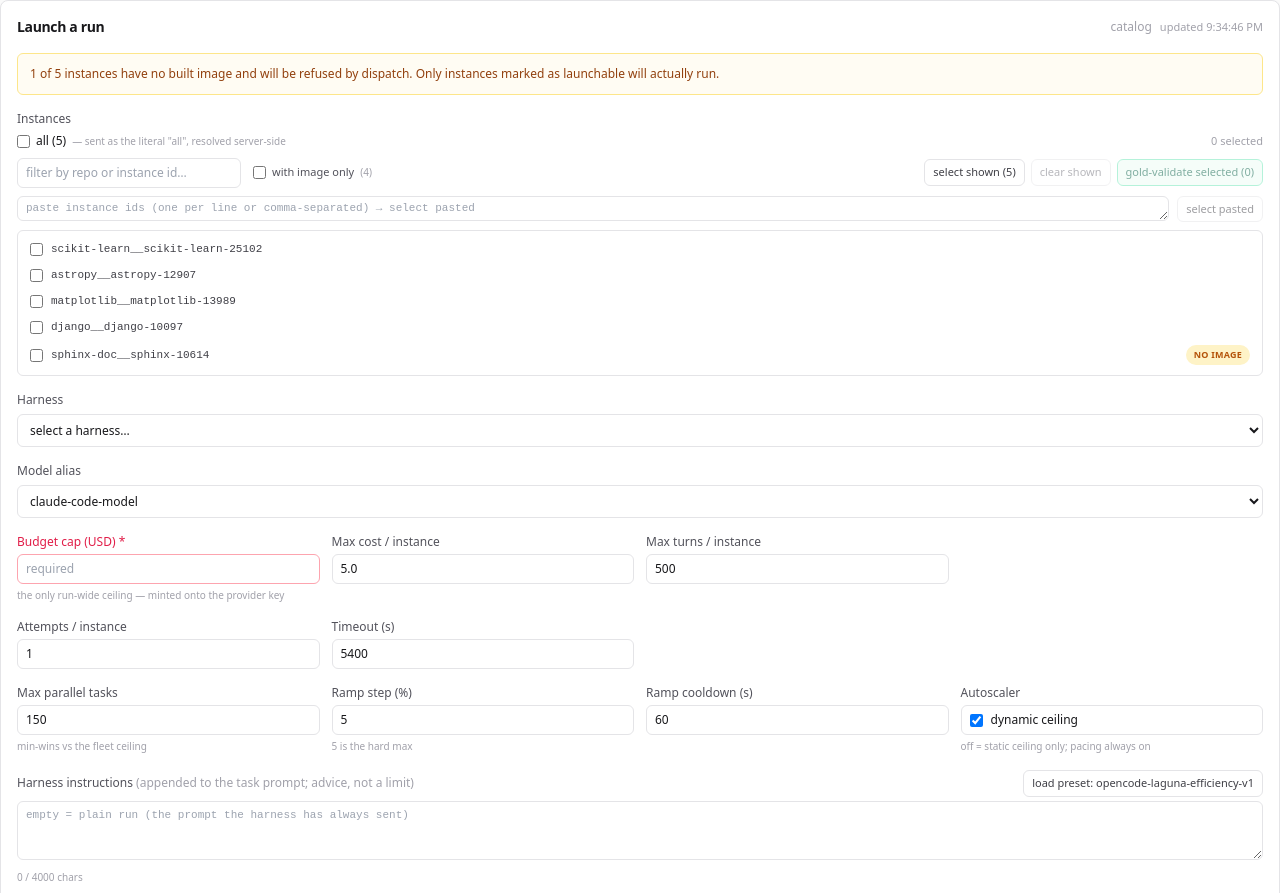
Scenario: LaunchScreen — §7 launch-body correctness rules › shows the selected pool's pacer consistency ratio and warns when it binds first
Select "deepseek-flash" in the dropdown named "model alias" at (640, 502), box [17,485,1263,518]
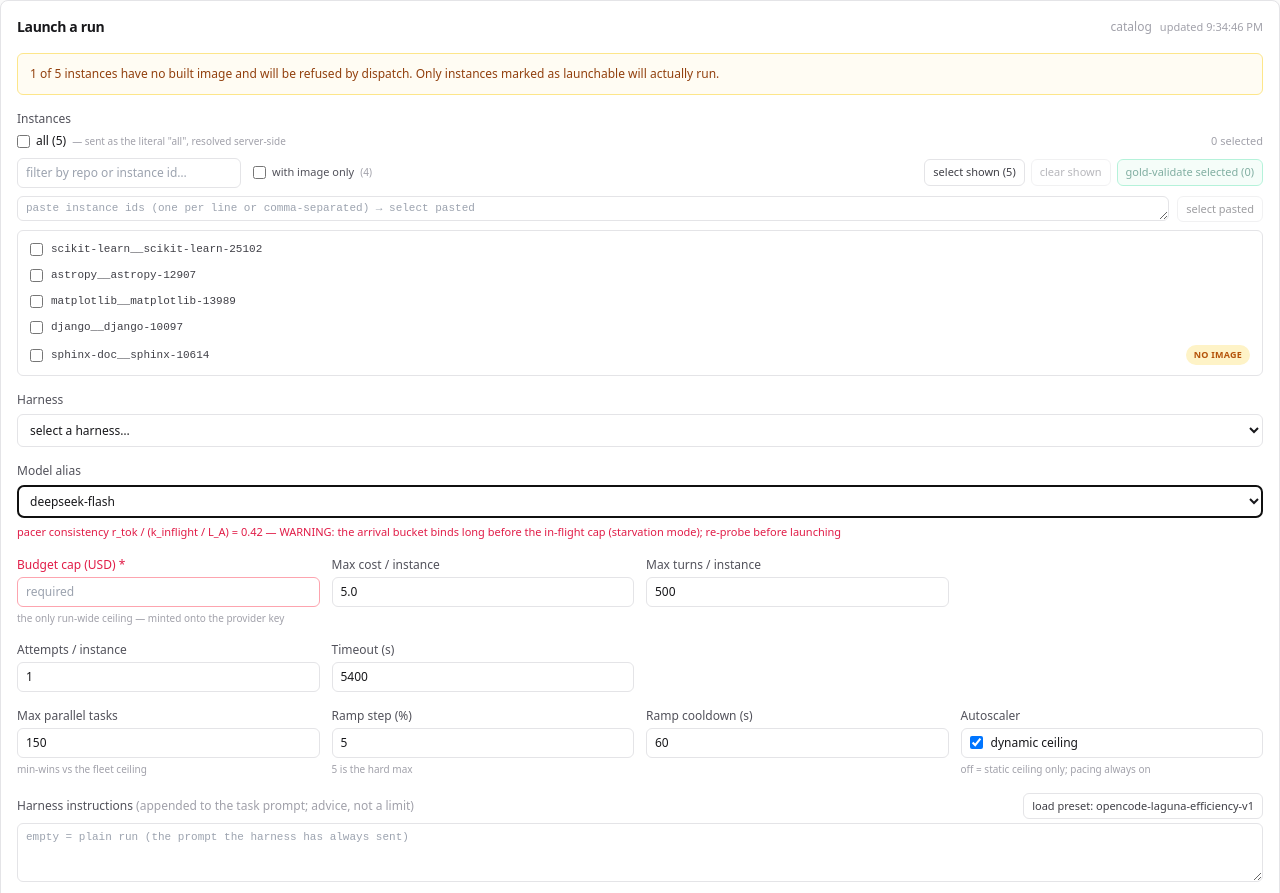
Check: the text with test id "pacer-consistency" shows "= 0.42", box [17,524,841,539]
Check: the text with test id "pacer-consistency" shows "WARNING", box [263,524,841,539]
Check: the text with test id "pacer-consistency" shows "starvation", box [263,524,841,539]
Note: An unseeded pool says so — never a blank that reads as healthy.
Select "claude-code-model" in the dropdown named "model alias" at (640, 502), box [17,485,1263,518]
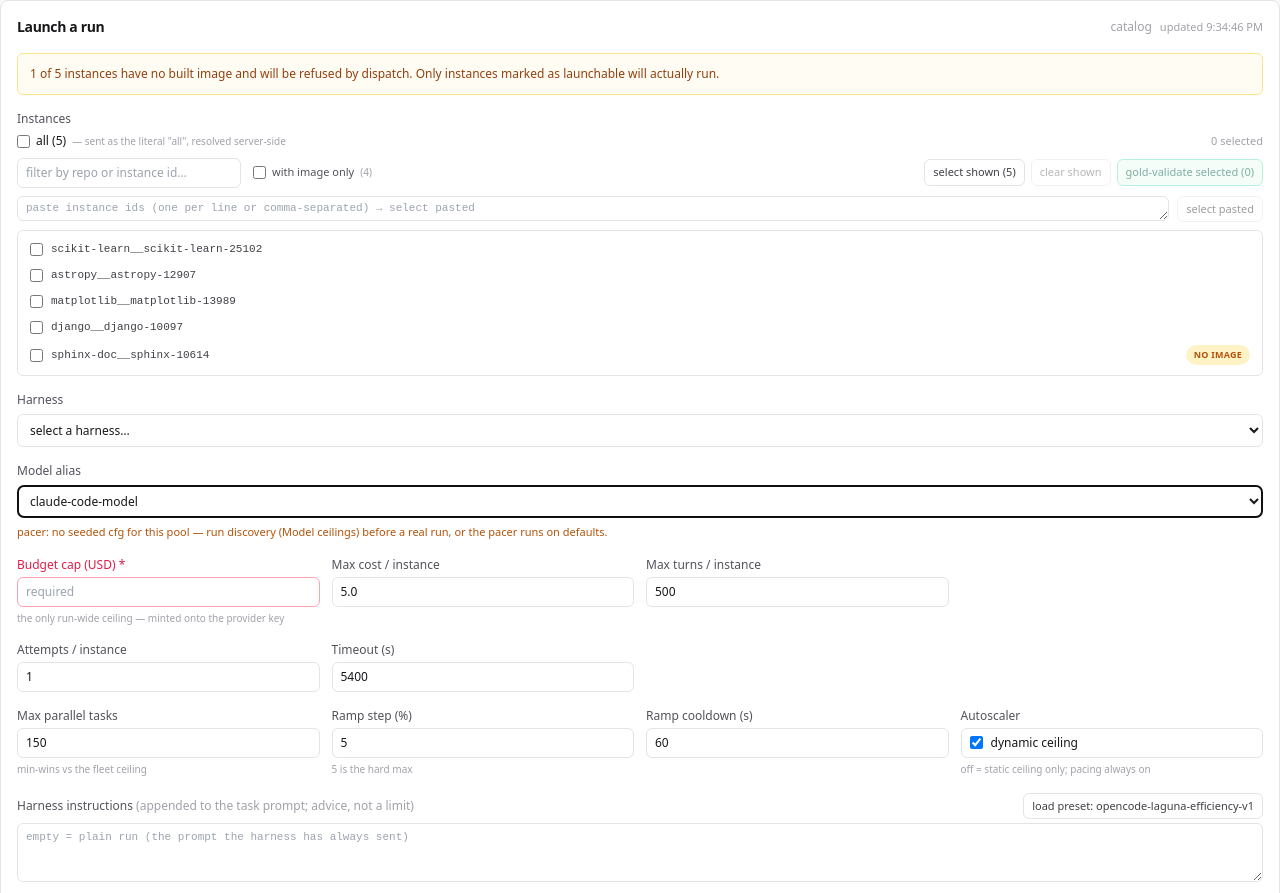
Check: the text with test id "pacer-consistency" shows "no seeded cfg", box [17,524,190,539]
